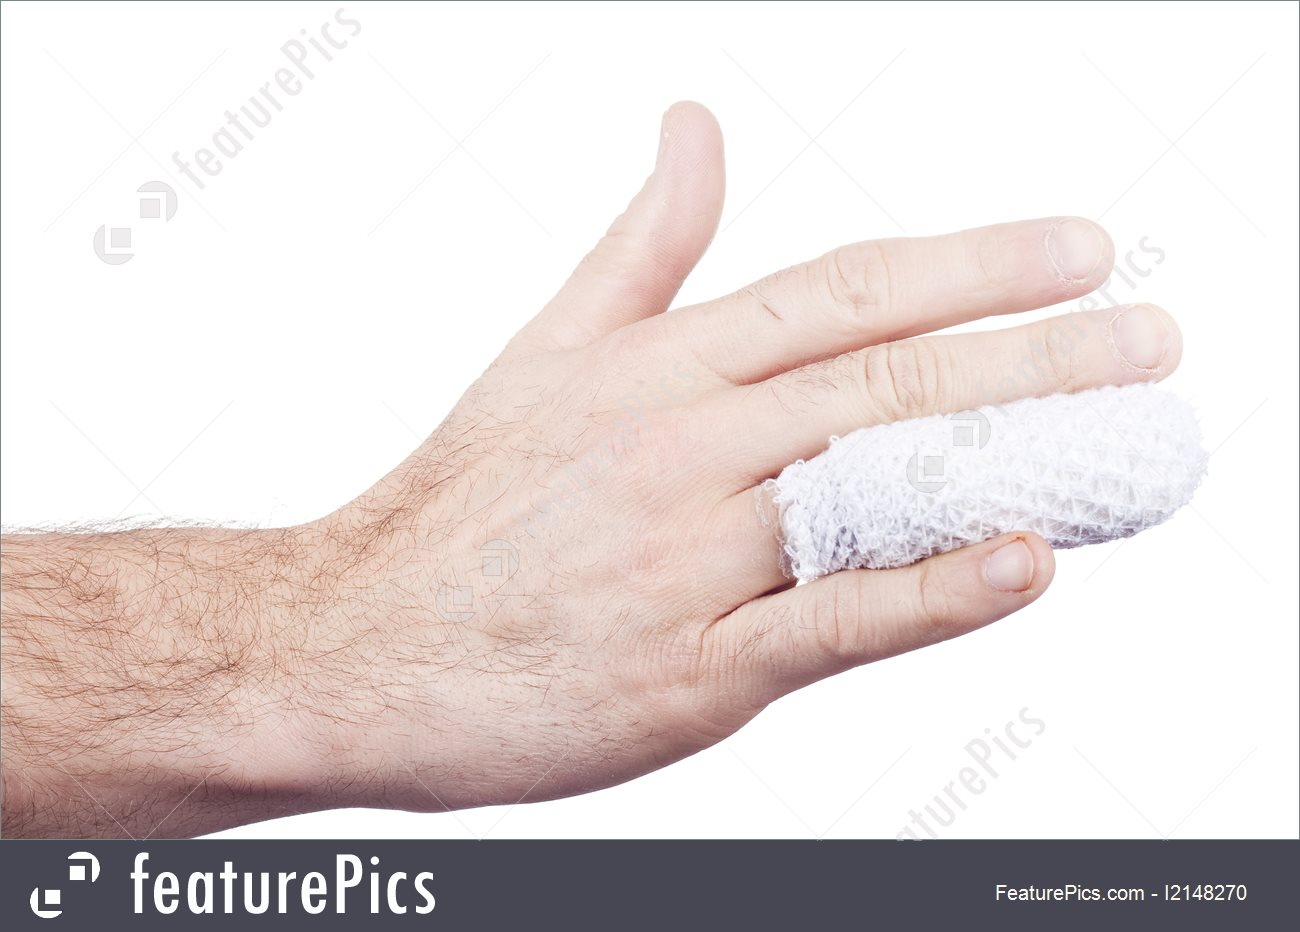injured: (736, 369, 1231, 574)
